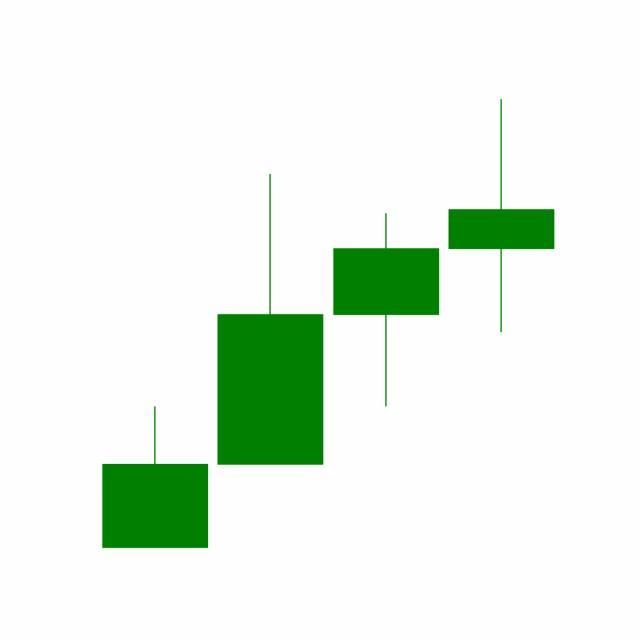Spinning Top: (444, 96, 560, 335)
